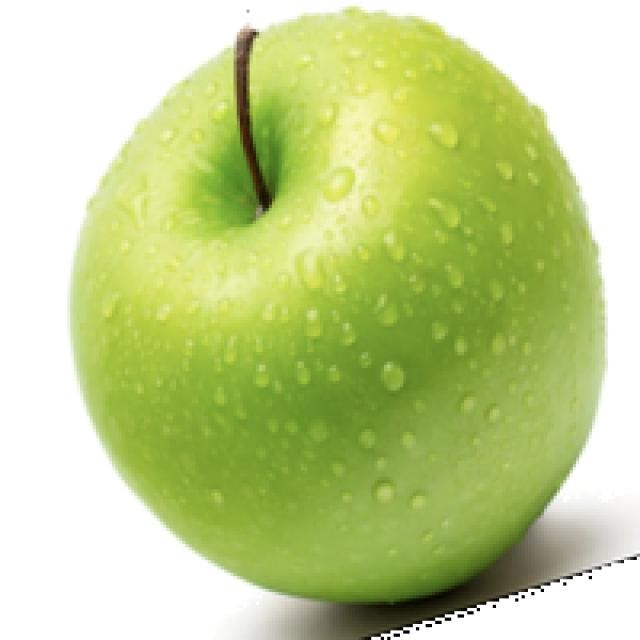apple: (64, 3, 637, 637)
